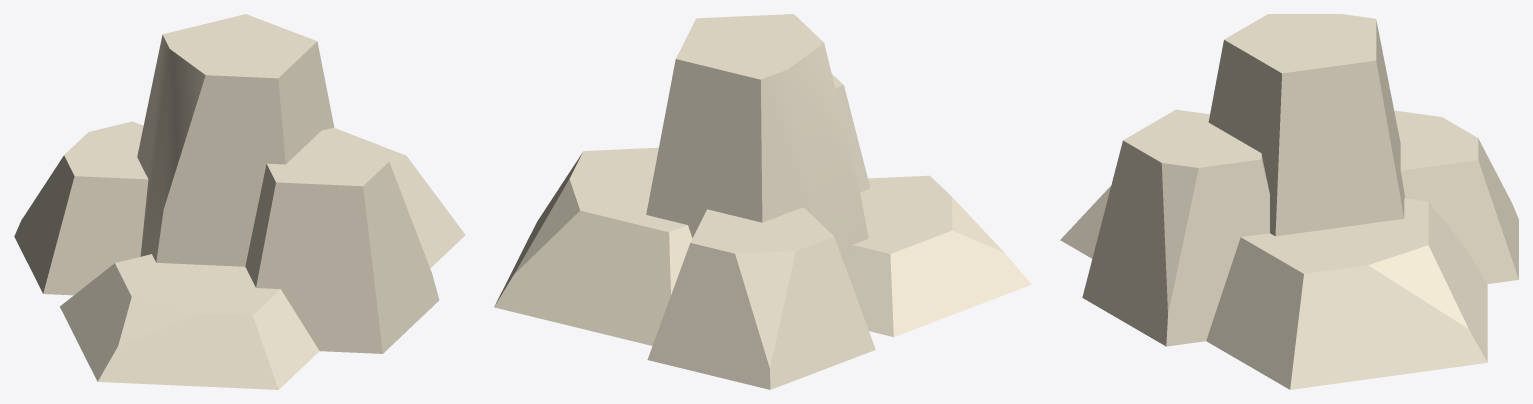
The model's file is Stone 2.fbx.
3 views of the same model, side by side, from view 1: azimuth 30°, elevation 25°; view 2: azimuth 150°, elevation 25°; view 3: azimuth 270°, elevation 25° (orthographic). The views are drawn at different scales.
Visible parts, largest first — view 1: rockB; view 2: rockB; view 3: rockB.
Boxes of the visible parts, <box> form: rockB: <box>14,14,465,389</box>; rockB: <box>494,14,1031,389</box>; rockB: <box>1060,14,1518,389</box>.
Bounding box in the file's own units: 3.37 × 1.77 × 3.06.
